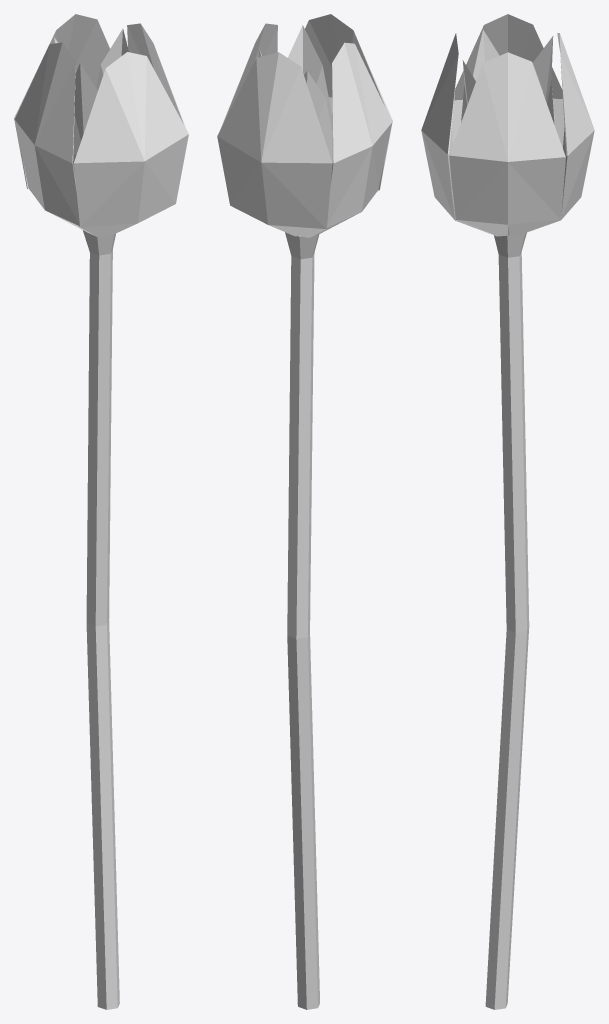
The model's file is Env_Tulip_High_Detail_01.glb.
3 views of the same model, side by side, from view 1: azimuth 30°, elevation 25°; view 2: azimuth 150°, elevation 25°; view 3: azimuth 270°, elevation 25° (orthographic).
Visible parts, largest first — view 1: Env_Tulip_High_Detail_01; view 2: Env_Tulip_High_Detail_01; view 3: Env_Tulip_High_Detail_01.
Part boxes in pixels (<box>): Env_Tulip_High_Detail_01: <box>14,14,188,1009</box>; Env_Tulip_High_Detail_01: <box>217,14,392,1009</box>; Env_Tulip_High_Detail_01: <box>421,14,594,1009</box>.
Bounding box in the file's own units: 0.0725 × 0.5009 × 0.0811.
1 material, 1 textured.
